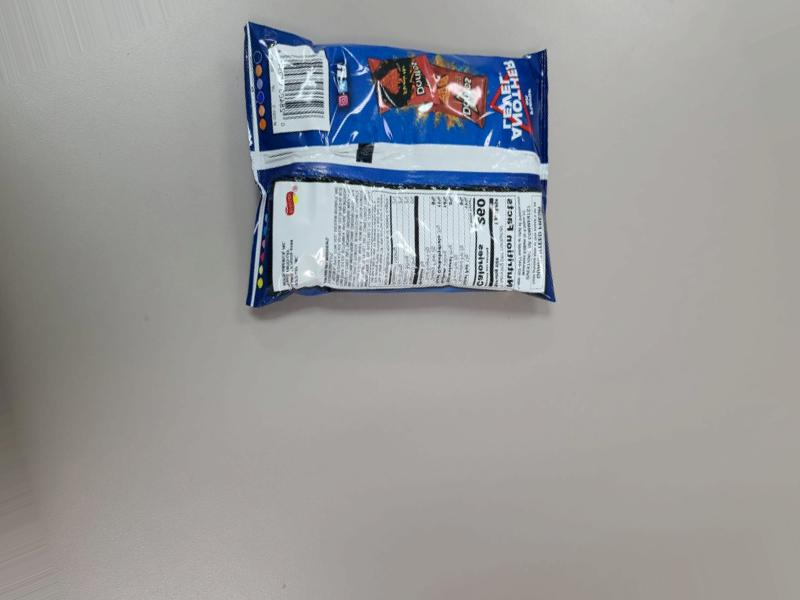doritos: (219, 19, 534, 321)
